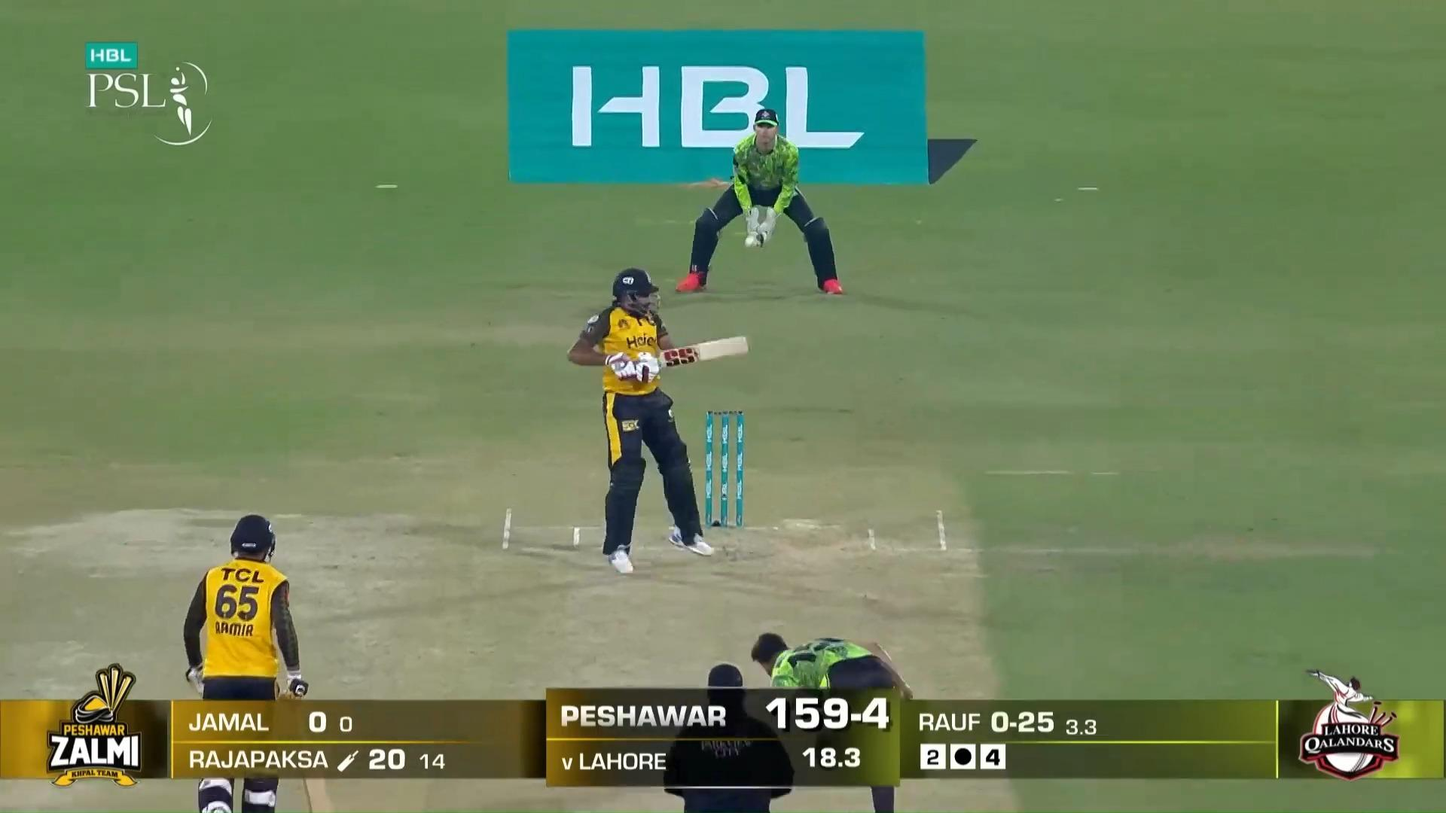batsman: (567, 267, 750, 573)
